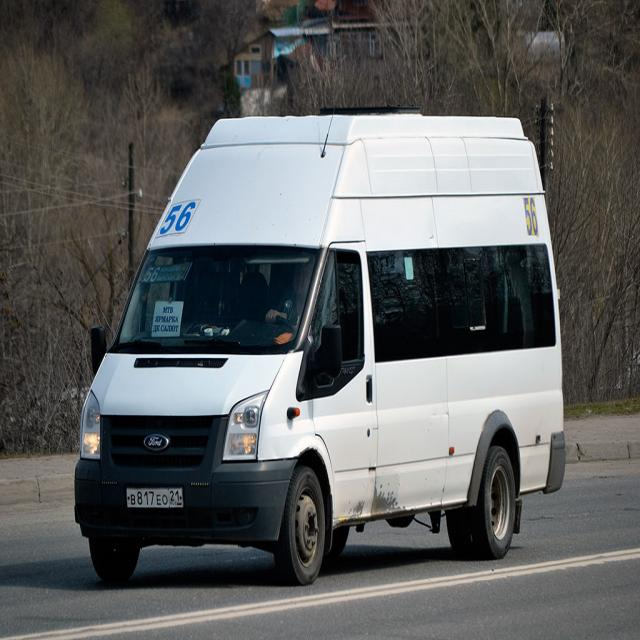number-of-bus: (158, 191, 199, 238)
